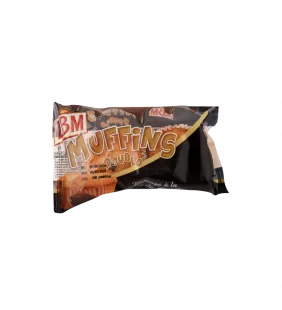LBM: (43, 93, 234, 219)
